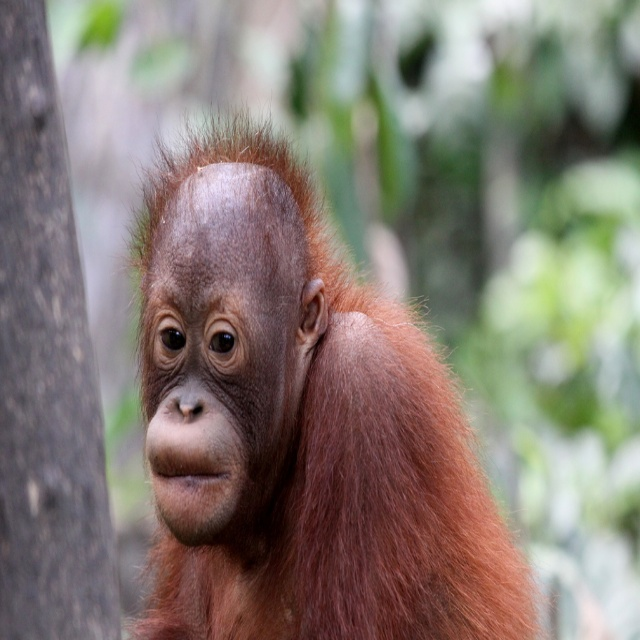Monkey: (114, 89, 558, 636)
